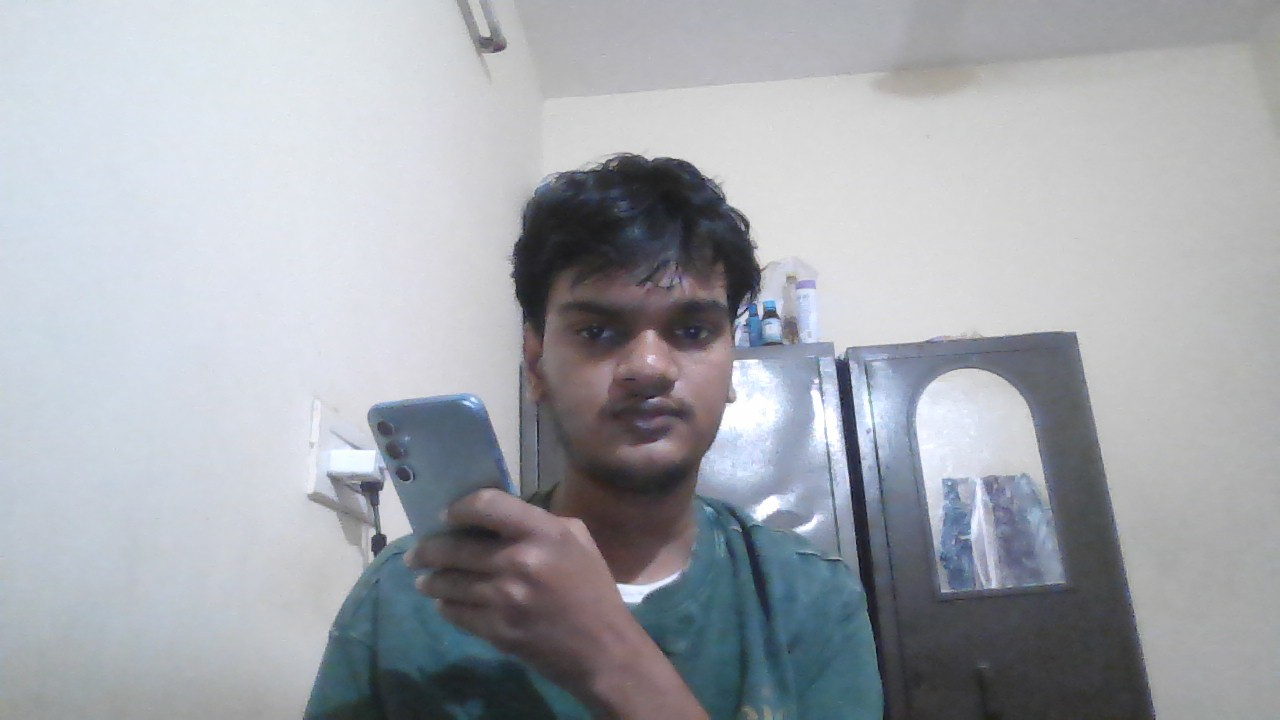phone: (365, 396, 505, 497)
